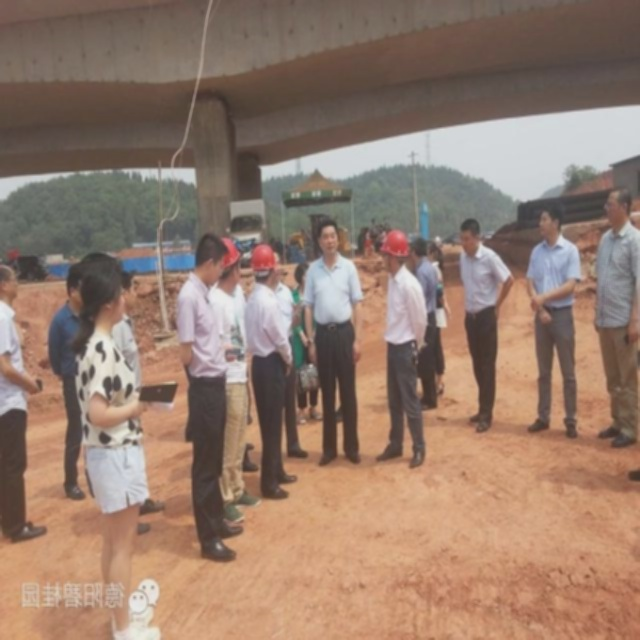Con_Casco: (380, 229, 410, 275)
Sin_Casco_Mascarrilla: (460, 218, 480, 257)
Sin_Chaleco: (527, 238, 578, 310), (306, 253, 356, 326)
